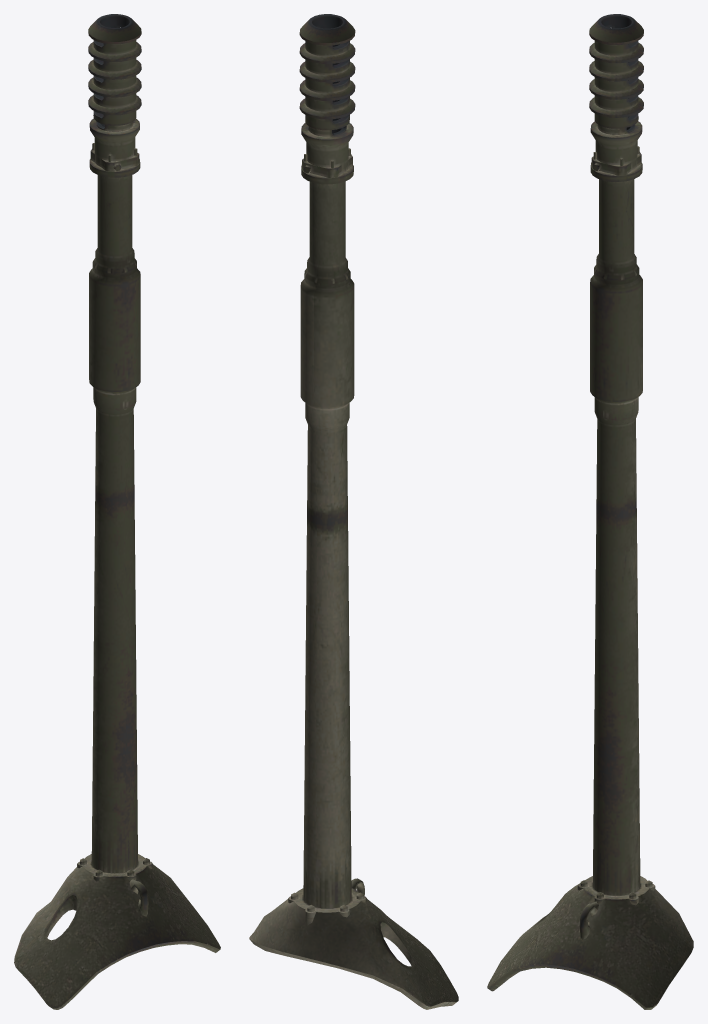
Rendered from Gun_04.glb.
3 renders of one model, left to right at view 1: azimuth 30°, elevation 25°; view 2: azimuth 150°, elevation 25°; view 3: azimuth 330°, elevation 25°, orthographic. The views are drawn at different scales.
Parts seen in each view (by area): view 1: set_0_group_0; view 2: set_0_group_0; view 3: set_0_group_0.
Boxes of the visible parts, x1=… form: set_0_group_0: x1=14, y1=14, x2=220, y2=1009; set_0_group_0: x1=249, y1=14, x2=458, y2=1009; set_0_group_0: x1=487, y1=14, x2=693, y2=1009.
Size of the model in its own units: 0.9804 by 5.17 by 0.6541.
1 material, 1 textured.
